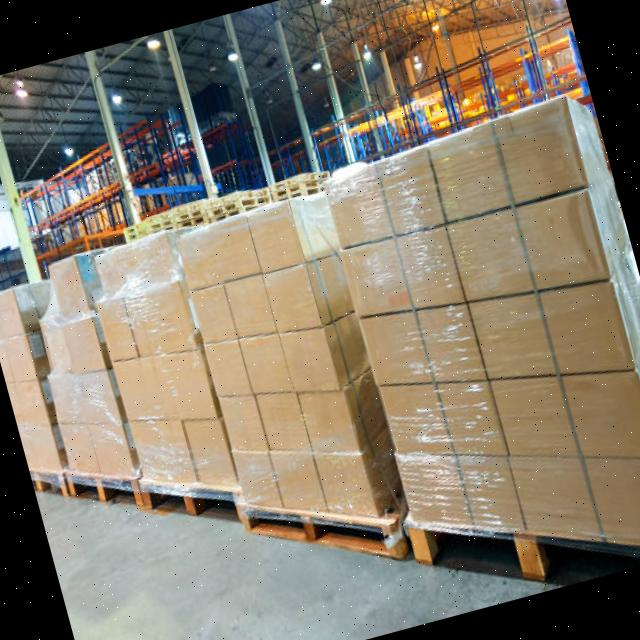Wooden-Pallets: (232, 499, 406, 565), (141, 476, 238, 535), (60, 470, 142, 516)
